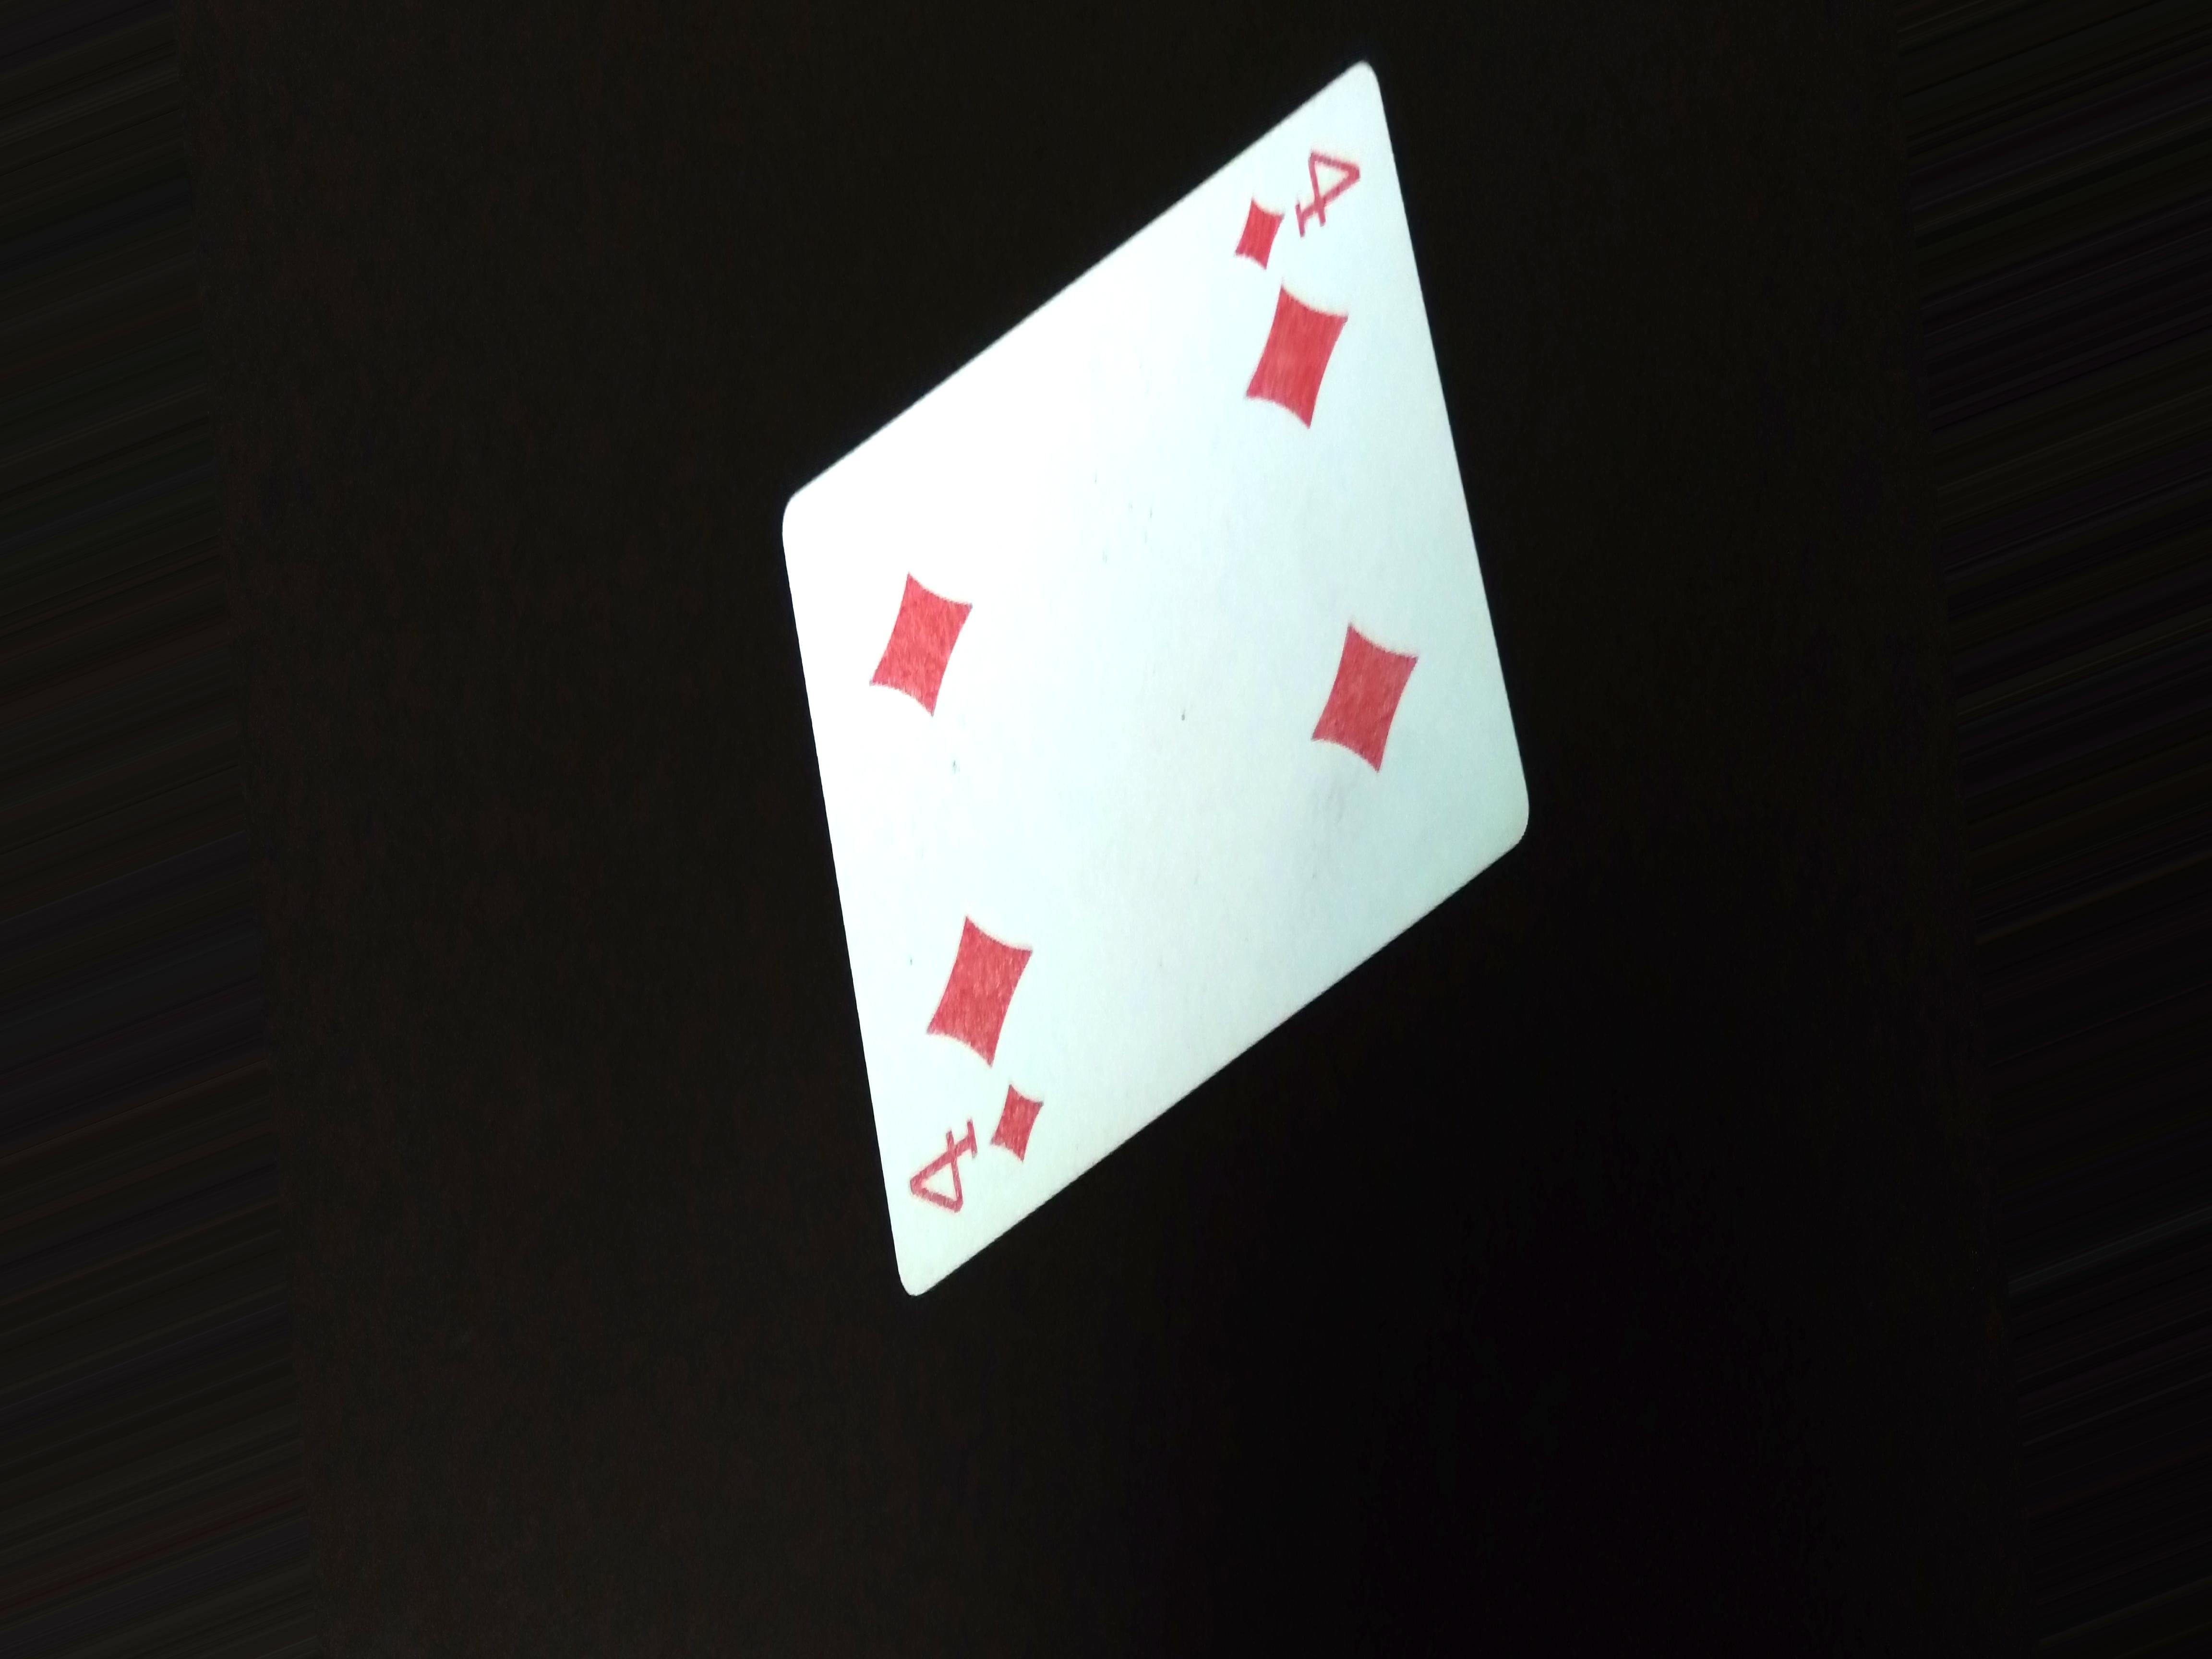4D: (1197, 139, 1388, 277)
